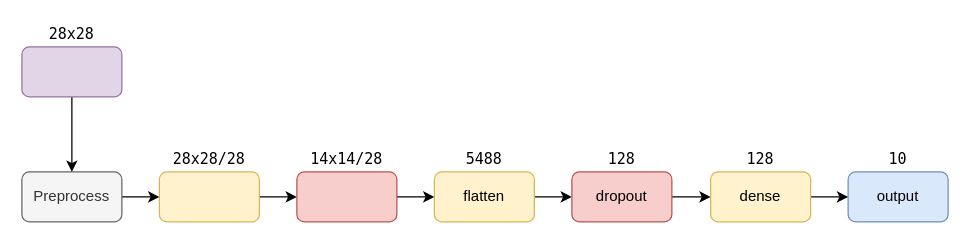
Some shapes in this 970 by 244 pixel diagram are drawn without their labels. The centre of each missing label's shape, as x and y in pixels:
"convolve" belongs at point 208,196.
"input" belongs at point 71,71.
"maxpool" belongs at point 346,196.
